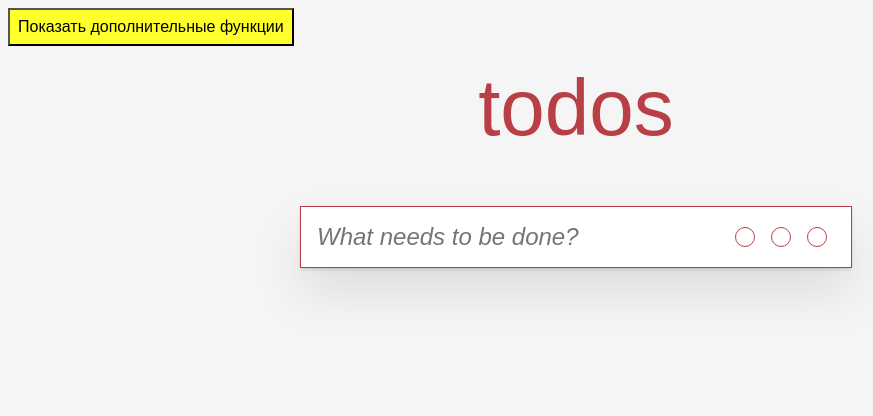
Scenario: Todo App › adds a new todo when form is submitted
In the field with placeholder "What needs to be done?": (507, 237) [301,207,714,267], type "Test Task"
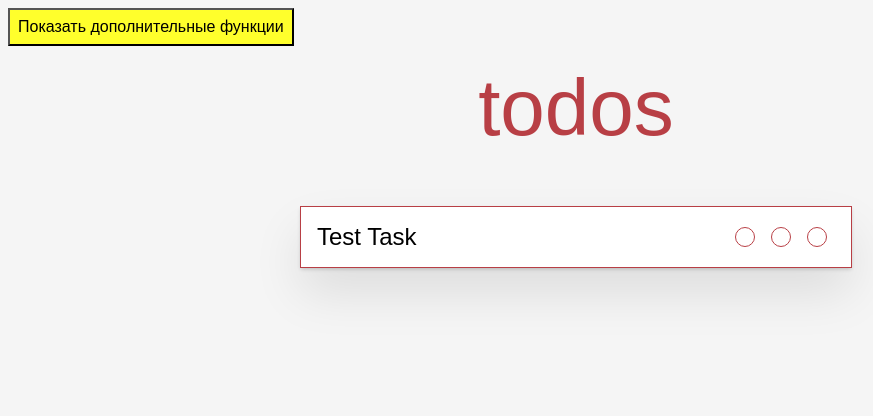
# Submit the form
Submit the form with placeholder "What needs to be done?", box [301,207,851,267]
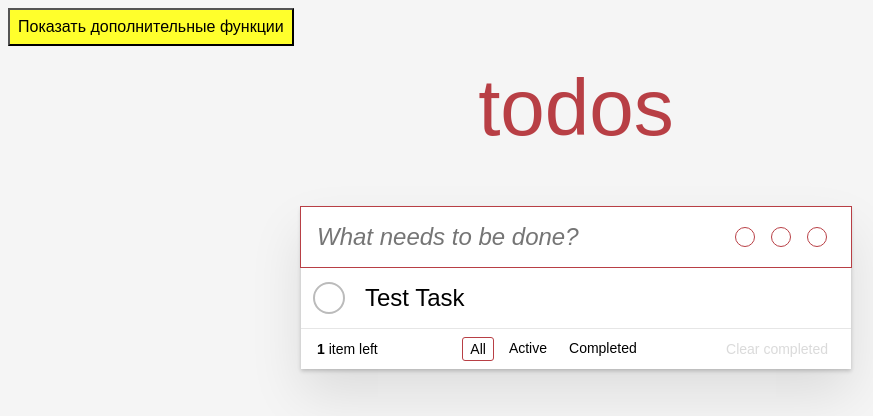
Result: the text "Test Task" is shown at [365,284,465,311]
Result: the field with placeholder "What needs to be done?" is empty at [301,207,714,267]
